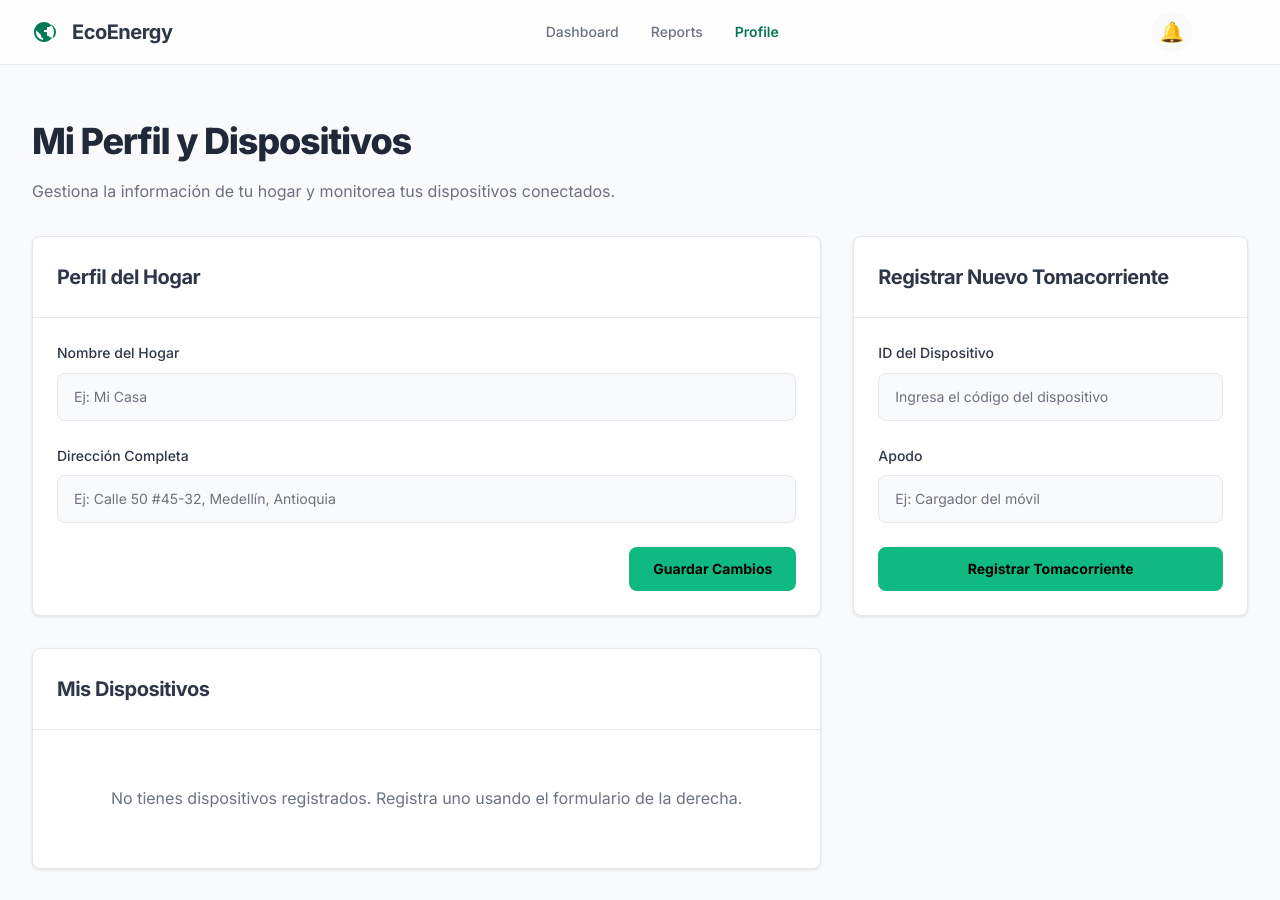
Test: Registrar tomacorriente - handleDeviceRegister › muestra error cuando falta el ID (validación y mostrarMensaje)
Expected: the heading "Registrar Nuevo Tomacorriente" is shown, [878,265,1169,289]
Type "Mi enchufe" into the field with placeholder "Ej: Cargador del móvil" at (1051, 499), box [878,475,1223,523]
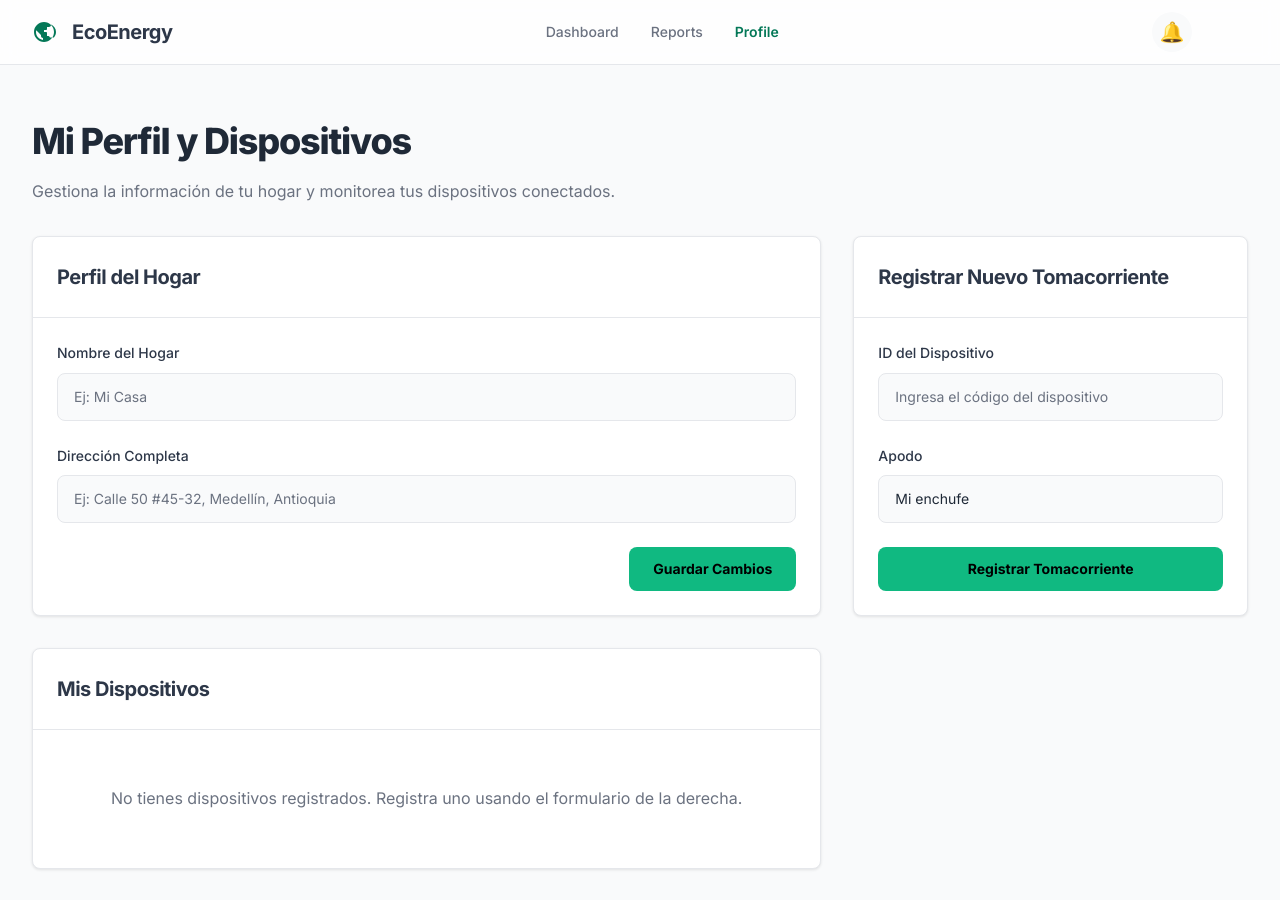
Submit the text "ID del Dispositivo Apodo Registrar Tomacorriente", box [878,342,1223,591]
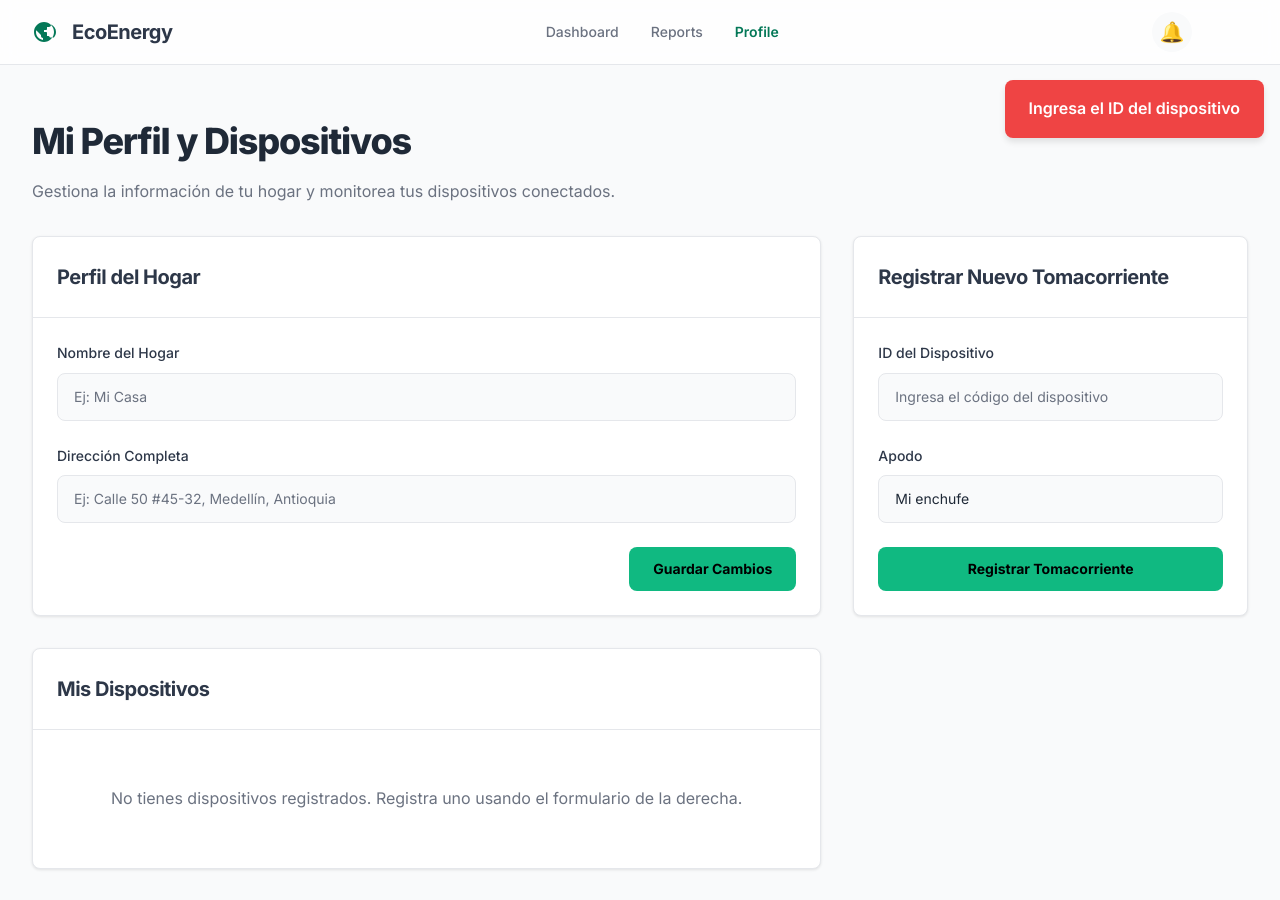
Expected: the text "Ingresa el ID del dispositivo" is shown, [1005,80,1264,138]
